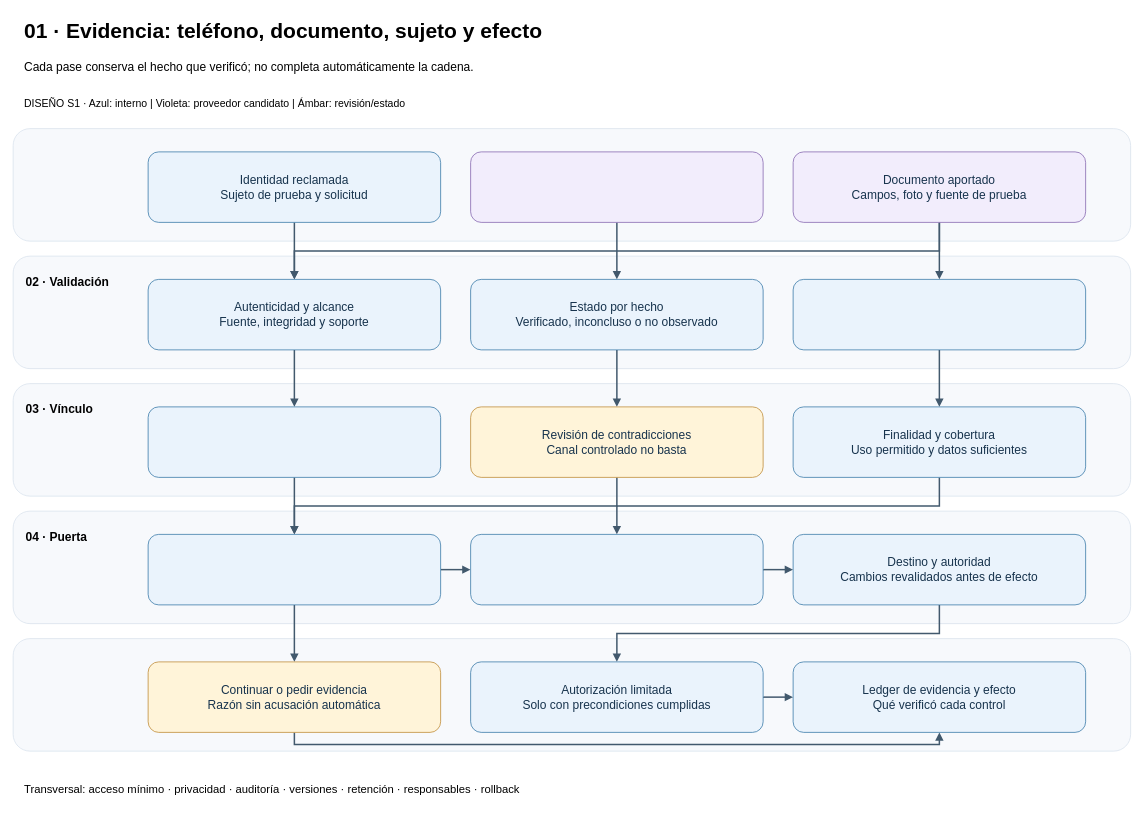
Some shapes in this 1144 by 816 pixel diagram are drawn without their labels. The shapes that lost their labels are listed below. From the top down, each one's box as (x1, y1, x2, y2) in pixels, then its label:
(12, 128, 1131, 241): 01 · Captura
(470, 151, 763, 222): Teléfono y canal Posesión distinta de titularidad
(792, 279, 1086, 350): Contexto de sesión Captura, tiempo y disponibilidad
(147, 406, 441, 477): Binding de evidencia Sujeto, caso, sesión y versión
(147, 534, 441, 605): Identidad e intención Procesos y límites separados
(470, 534, 763, 605): Formalización coherente Oferta aceptada y condiciones
(12, 638, 1131, 751): 05 · Salida
